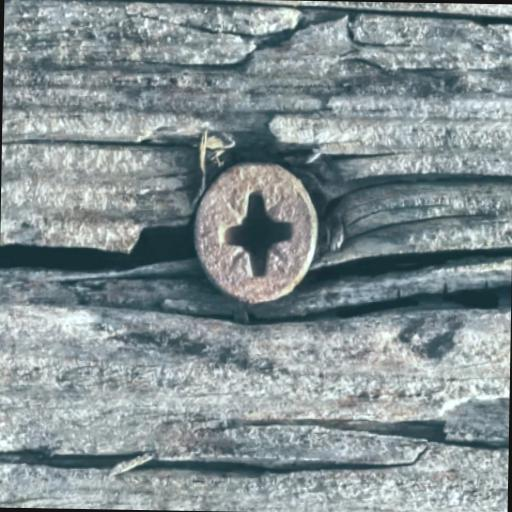Phillips: (185, 154, 328, 312)
